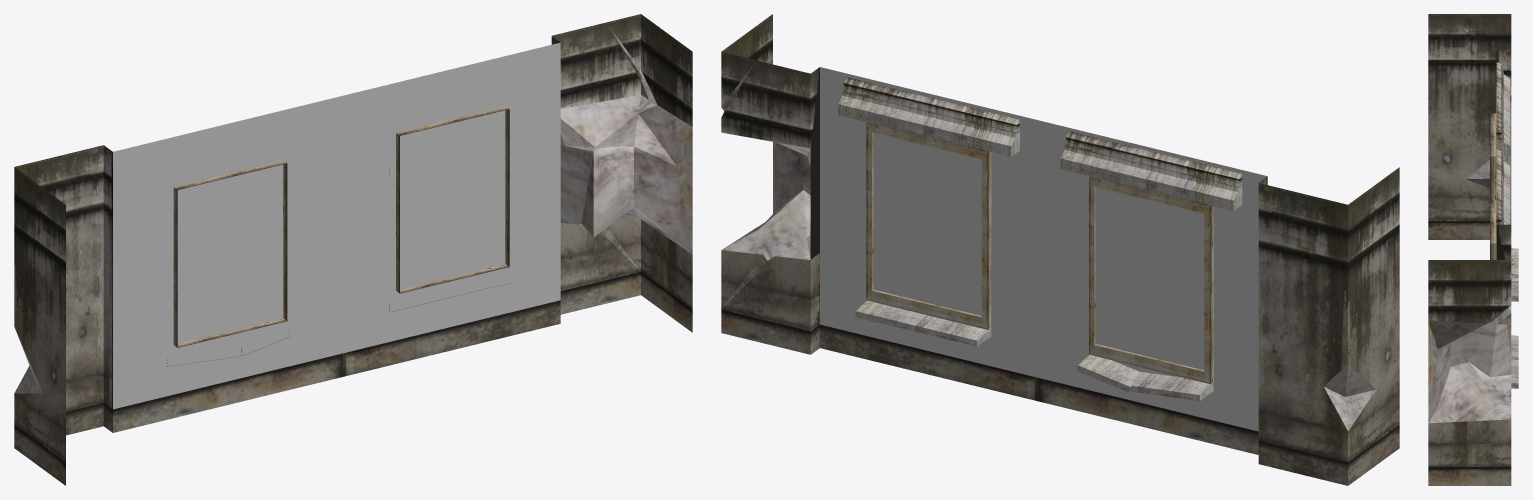
Rendered from Store_front_3_D.fbx.
3 renders of one model, left to right at view 1: azimuth 30°, elevation 25°; view 2: azimuth 150°, elevation 25°; view 3: azimuth 270°, elevation 25°, orthographic. The views are drawn at different scales.
Visible parts, largest first — view 1: Store_front_3_D; view 2: Store_front_3_D; view 3: Store_front_3_D.
Part boxes in pixels (x1,y1,x2,y2): Store_front_3_D: (14,14,692,485); Store_front_3_D: (721,14,1399,485); Store_front_3_D: (1428,14,1518,485).
Bounding box in the file's own units: 700 × 300 × 109.
